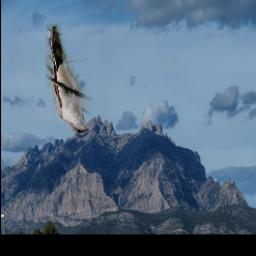Cuckoo: (47, 24, 93, 133)
